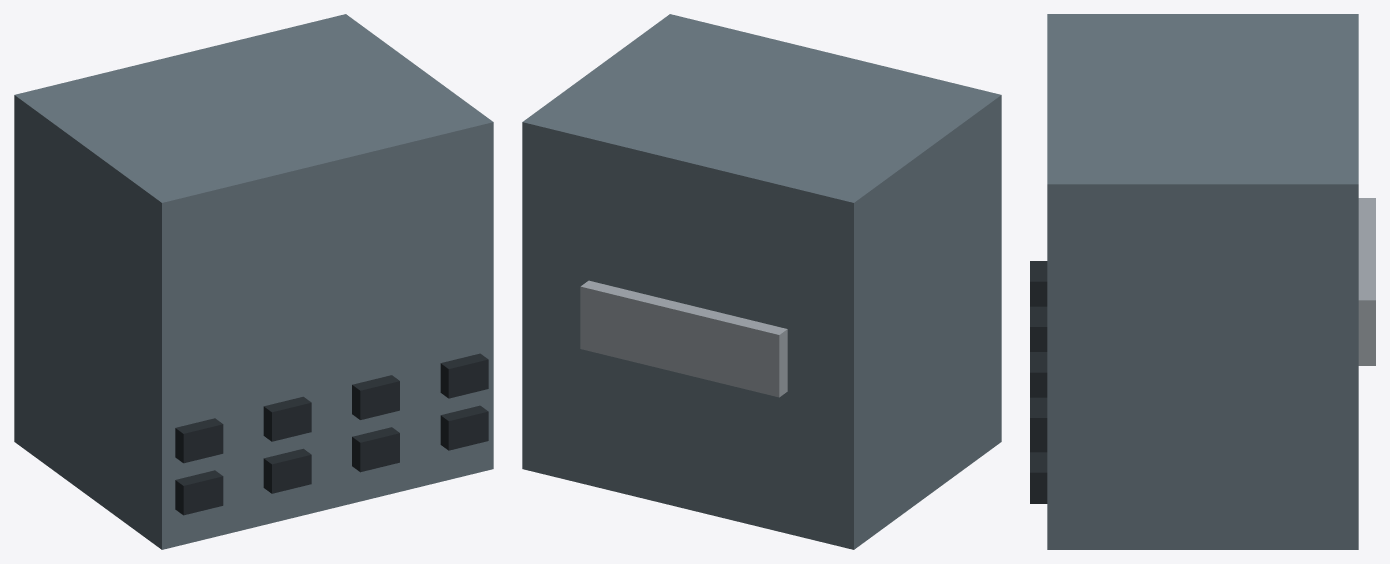
The picture shows the model from 3 angles, left to right: view 1: azimuth 30°, elevation 25°; view 2: azimuth 150°, elevation 25°; view 3: azimuth 270°, elevation 25°; orthographic projection. The views are drawn at different scales.
Parts seen in each view (by area): view 1: Body, Connector0, Connector1, Connector3, Connector4, Connector7, Connector5, Connector2, Connector6; view 2: Body, MountClip; view 3: Body, MountClip, Connector3, Connector7, Connector4, Connector6, Connector5.
Boxes of the visible parts, box(x1,y1,x2,y2) form: Body: box(14, 14, 493, 549); Connector0: box(175, 470, 223, 515); Connector1: box(263, 448, 311, 493); Connector3: box(440, 405, 488, 450); Connector4: box(175, 418, 223, 463); Connector7: box(440, 353, 488, 398); Connector5: box(263, 396, 311, 441); Connector2: box(352, 427, 399, 472); Connector6: box(352, 375, 399, 419); Body: box(522, 14, 1001, 549); MountClip: box(580, 280, 787, 397); Body: box(1047, 14, 1358, 549); MountClip: box(1358, 198, 1375, 365); Connector3: box(1030, 452, 1047, 503); Connector7: box(1030, 397, 1047, 448); Connector4: box(1030, 261, 1047, 306); Connector6: box(1030, 352, 1047, 397); Connector5: box(1030, 306, 1047, 351).
Bounding box in the file's own units: 0.14 × 0.14 × 0.12.
